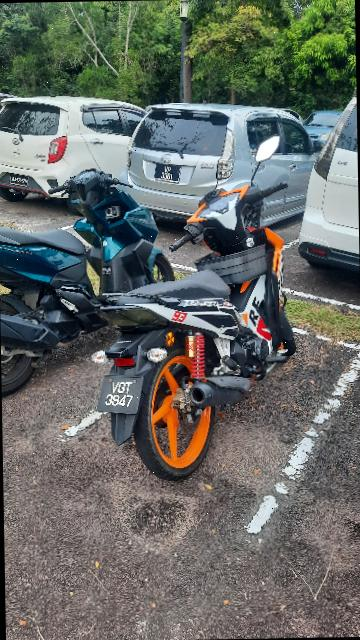License_Plate: (87, 375, 148, 420), (157, 158, 183, 185), (9, 173, 34, 190)
car: (123, 94, 327, 232), (1, 89, 161, 203)
motorcycle: (90, 130, 308, 481), (1, 165, 176, 394)
